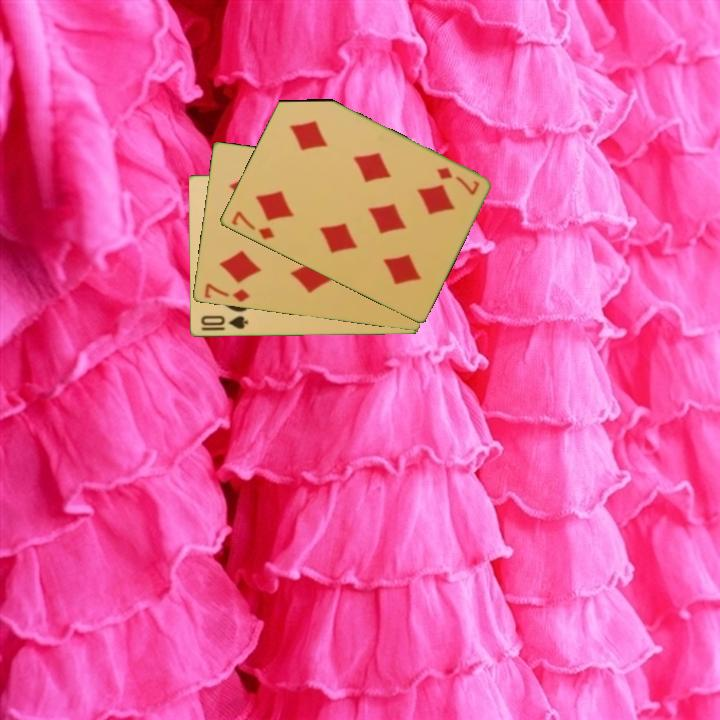10s: (197, 312, 250, 332)
7d: (228, 208, 277, 243), (432, 164, 482, 198), (201, 280, 252, 305)
